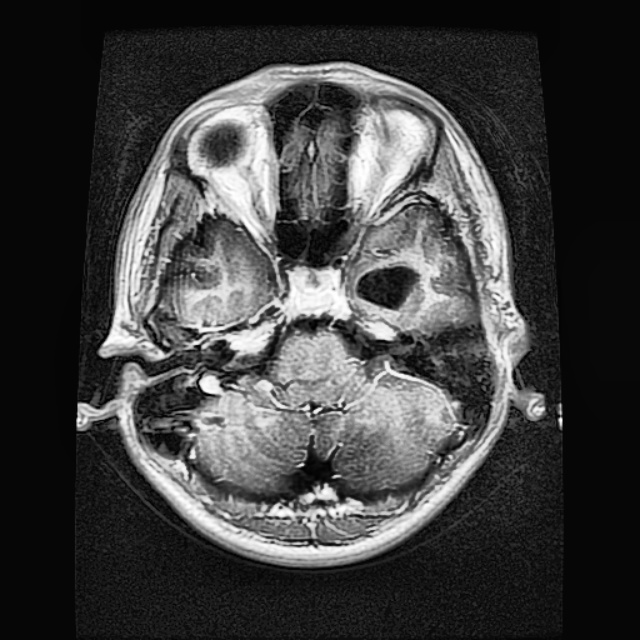Glioma: (359, 264, 420, 304)
